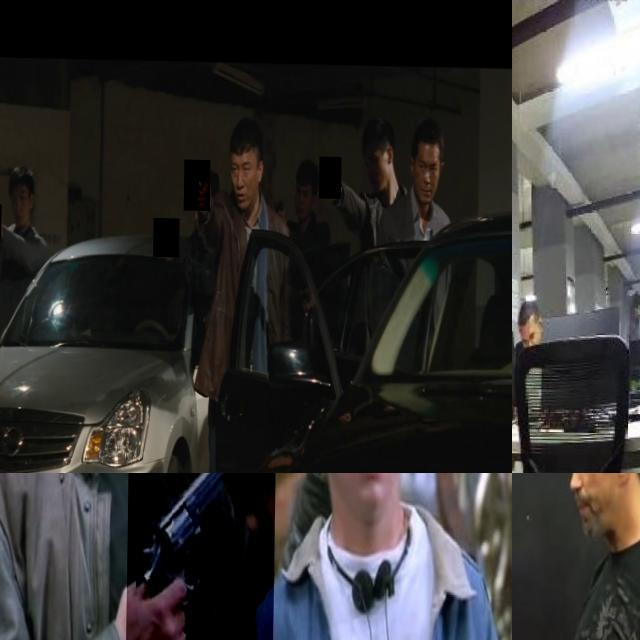-: (512, 383, 524, 473)
gun-knife-thesis - v11 Yolov5 augmented: (127, 473, 277, 640), (184, 158, 211, 210), (154, 216, 180, 256), (320, 154, 342, 197), (0, 203, 8, 239)
